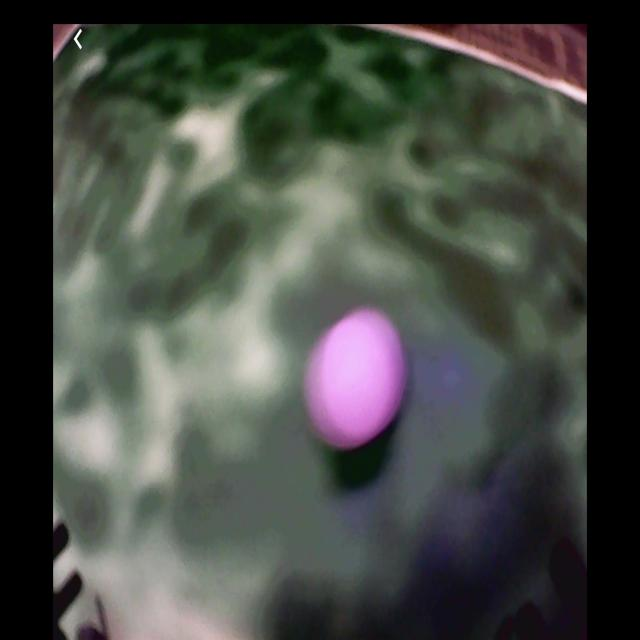ball: (314, 316, 403, 449)
